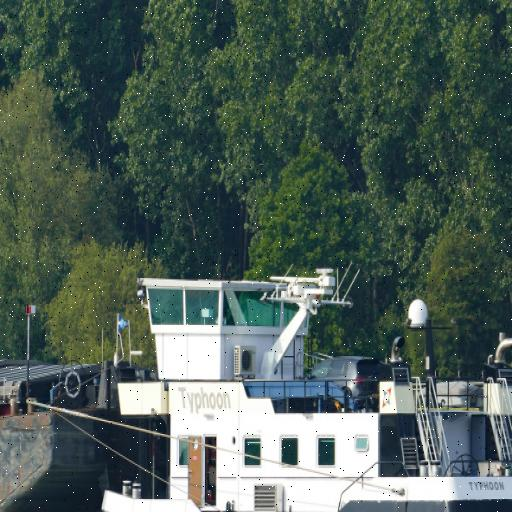tugboat: (94, 253, 512, 512)
